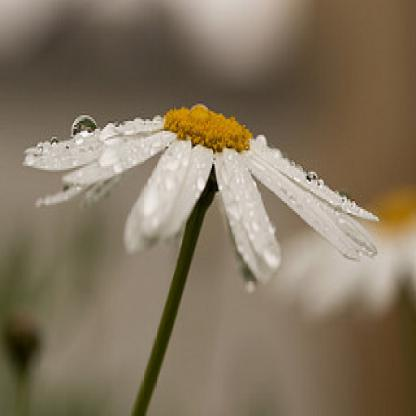ASTER: (17, 65, 405, 333)
